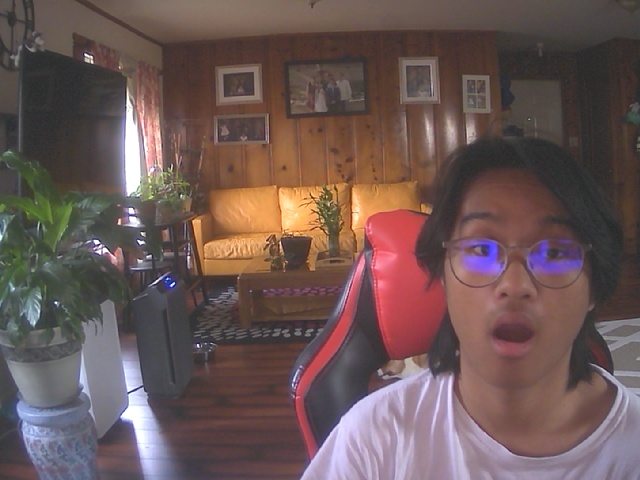fear: (432, 157, 601, 391)
